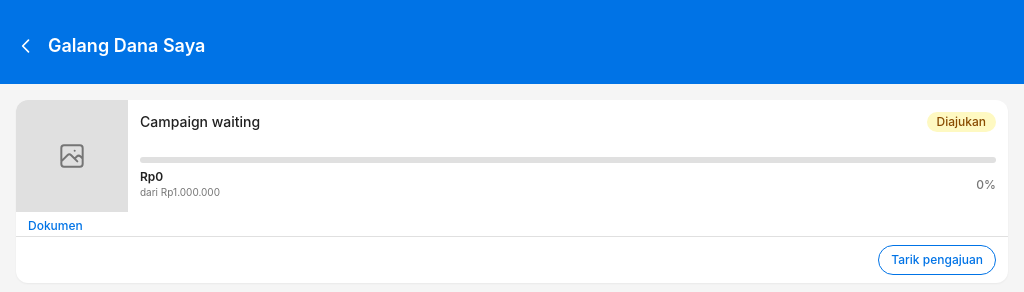
Scenario: Kampanye Saya › shows why a withdrawal was refused
Click the button "Tarik pengajuan". click: click(937, 260)
box: 878,245 -> 996,275
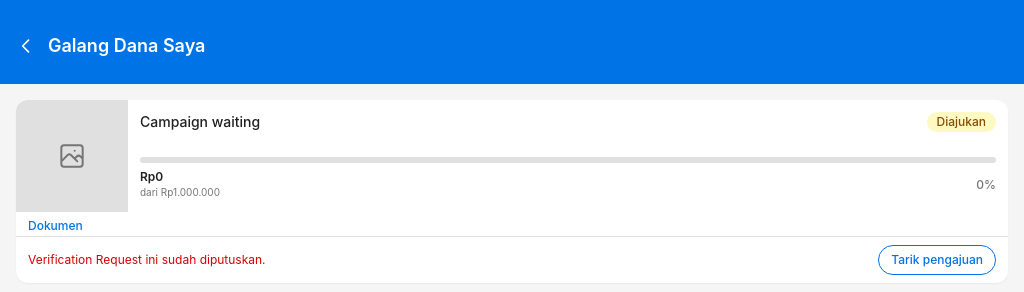
Expected: the text "Verification Request ini sudah diputuskan." is shown, 28,252 -> 266,268
